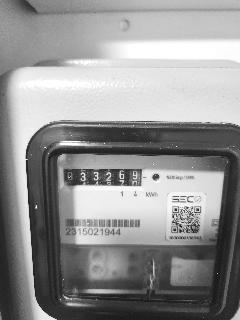1: (68, 172, 73, 180)
3: (107, 173, 112, 181)
4: (81, 173, 86, 181), (94, 172, 99, 180)
7: (120, 171, 125, 180)
:: (133, 171, 138, 179)
